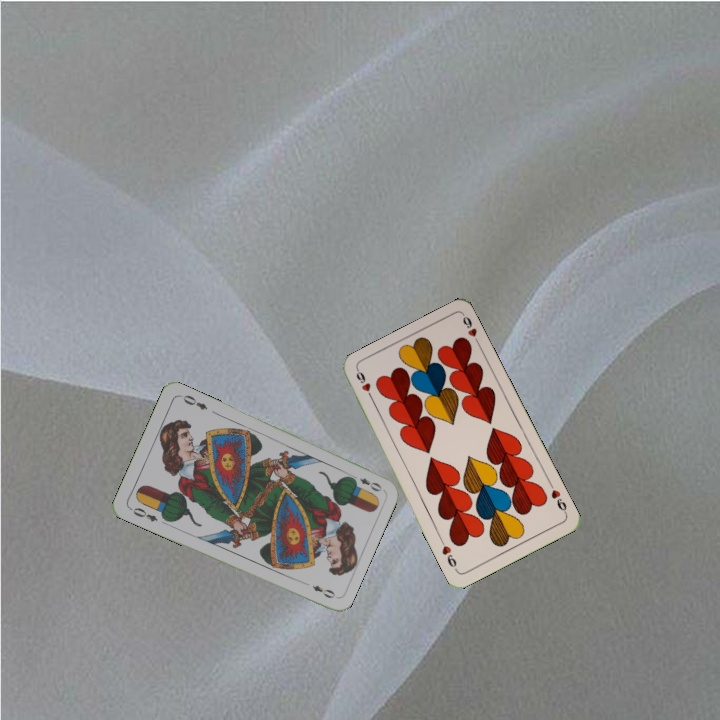EO: (346, 470, 384, 494), (126, 503, 160, 524)
H9: (352, 366, 377, 405), (545, 479, 569, 517)
